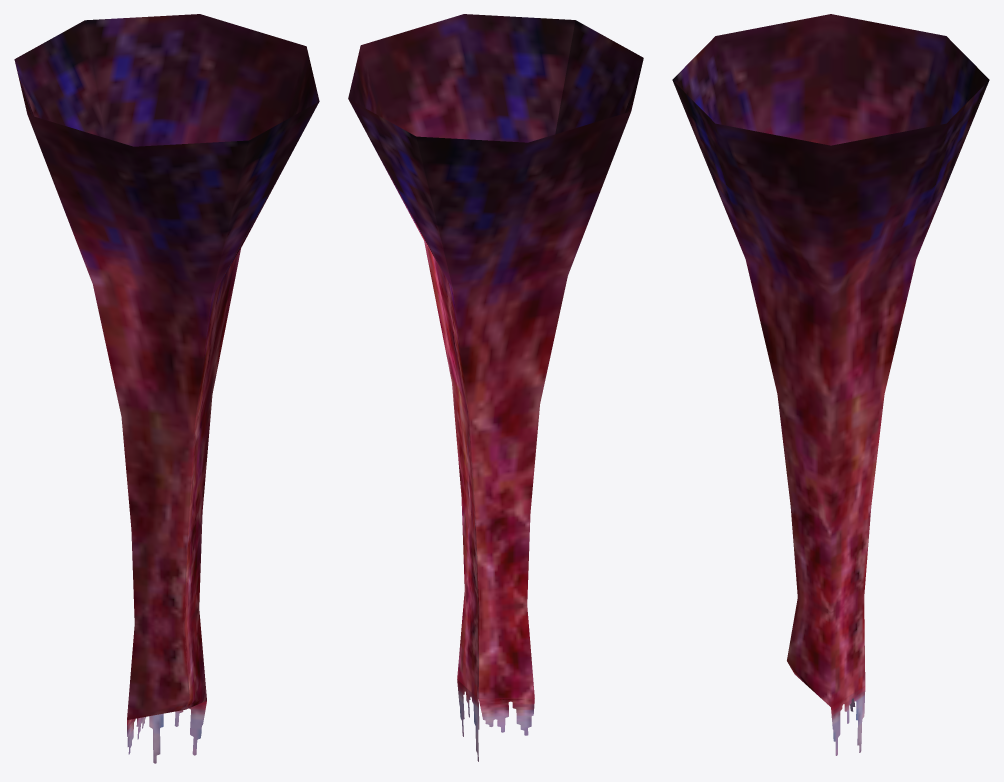
The model's file is balinadearm2.obj.
3 renders of one model, left to right at view 1: azimuth 30°, elevation 25°; view 2: azimuth 150°, elevation 25°; view 3: azimuth 270°, elevation 25°, orthographic. The views are drawn at different scales.
Parts seen in each view (by area): view 1: nodes_4__meshes[0]; view 2: nodes_4__meshes[0]; view 3: nodes_4__meshes[0].
Part boxes in pixels (left/top/right/bottom): nodes_4__meshes[0]: left=14, top=14, right=319, bottom=763; nodes_4__meshes[0]: left=348, top=14, right=643, bottom=761; nodes_4__meshes[0]: left=672, top=14, right=989, bottom=755.
Bounding box in the file's own units: 707 × 1691 × 720.
